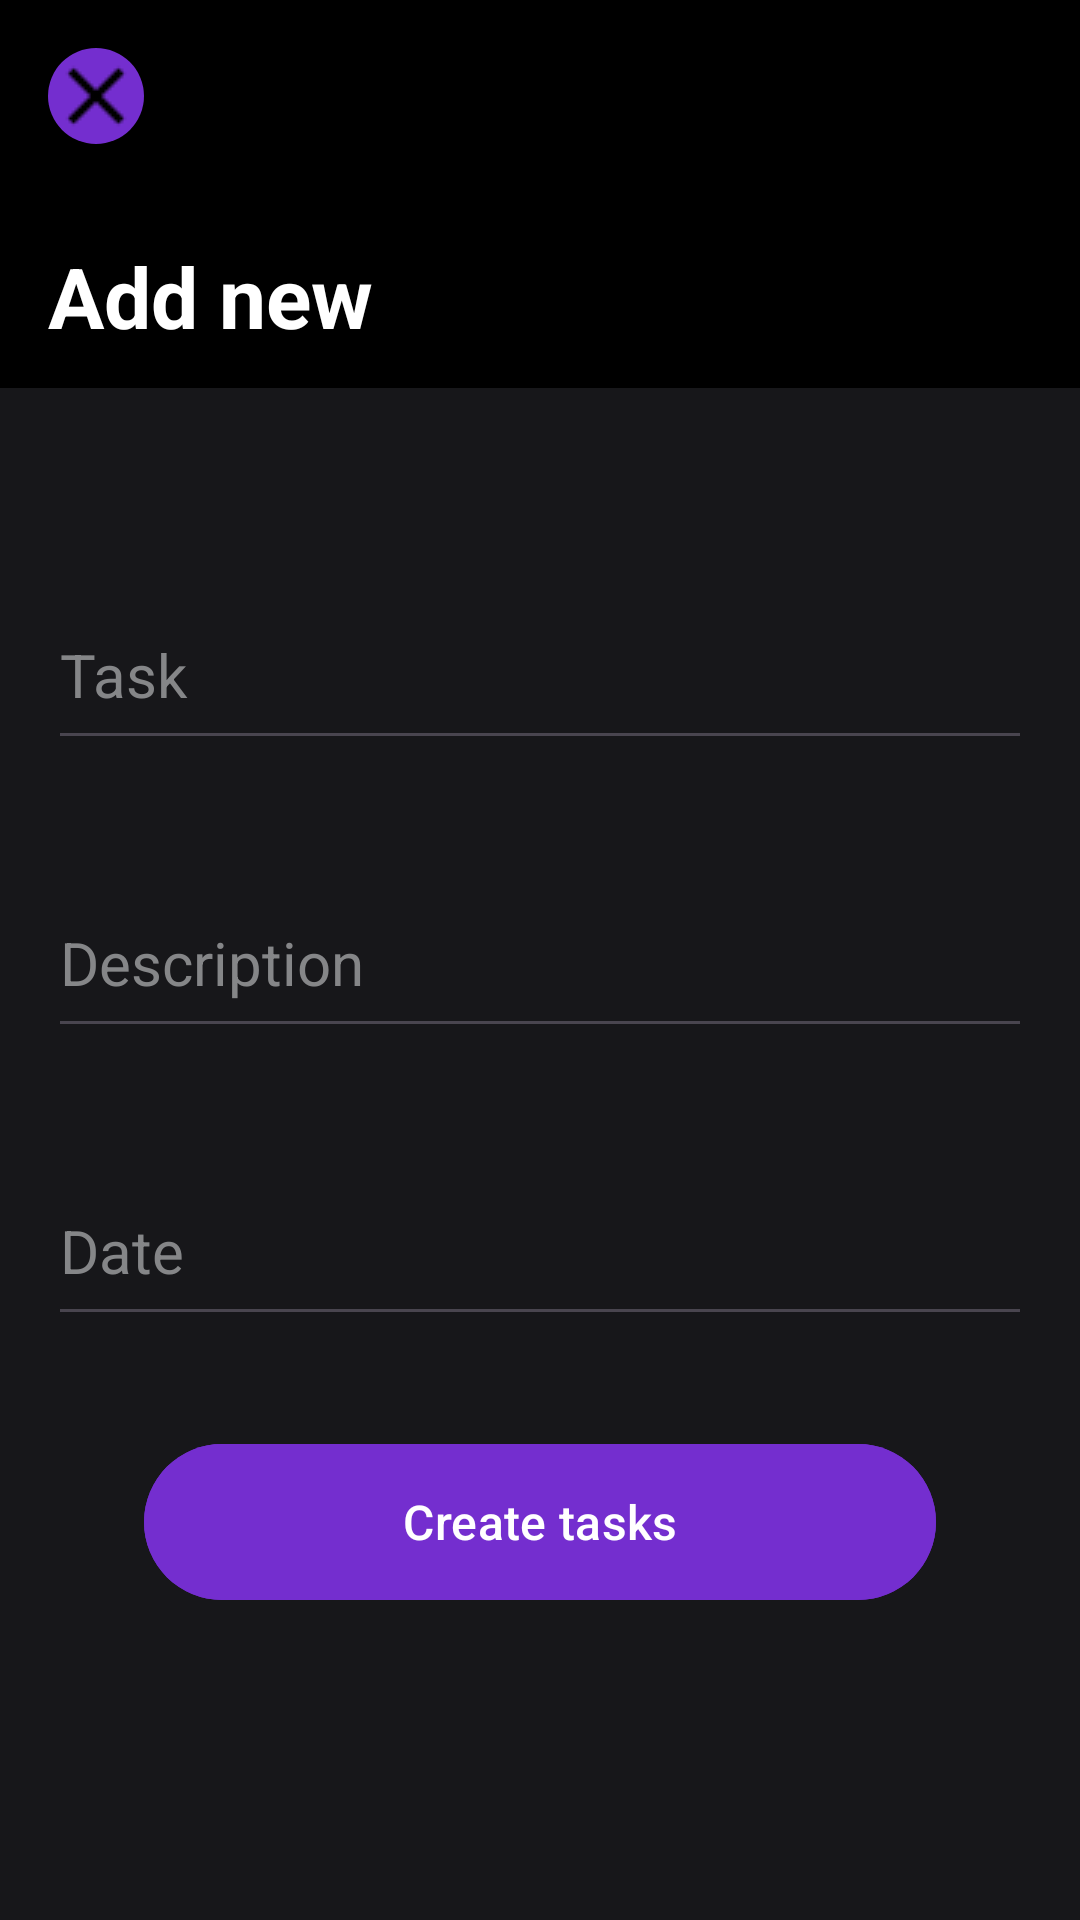

Where icons sit on this 1080 × 1920 app screen, as box(x1, y1, x2, y2):
close: box(48, 48, 144, 144)
